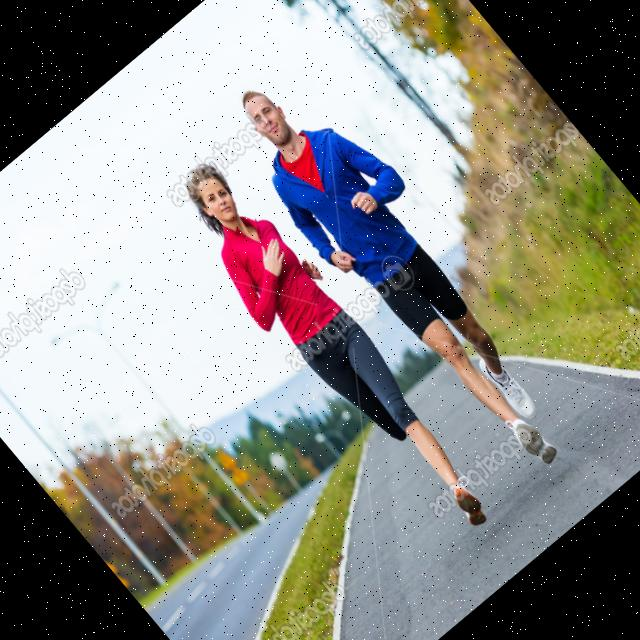Person: (211, 53, 603, 490), (153, 146, 512, 552)
